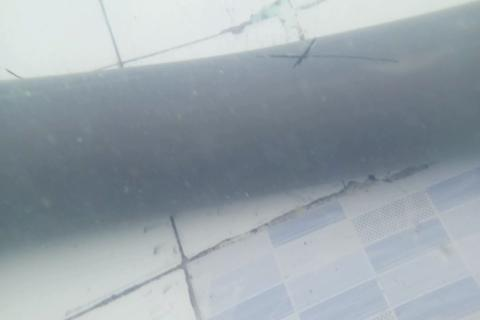keretakan: (253, 37, 402, 69)
